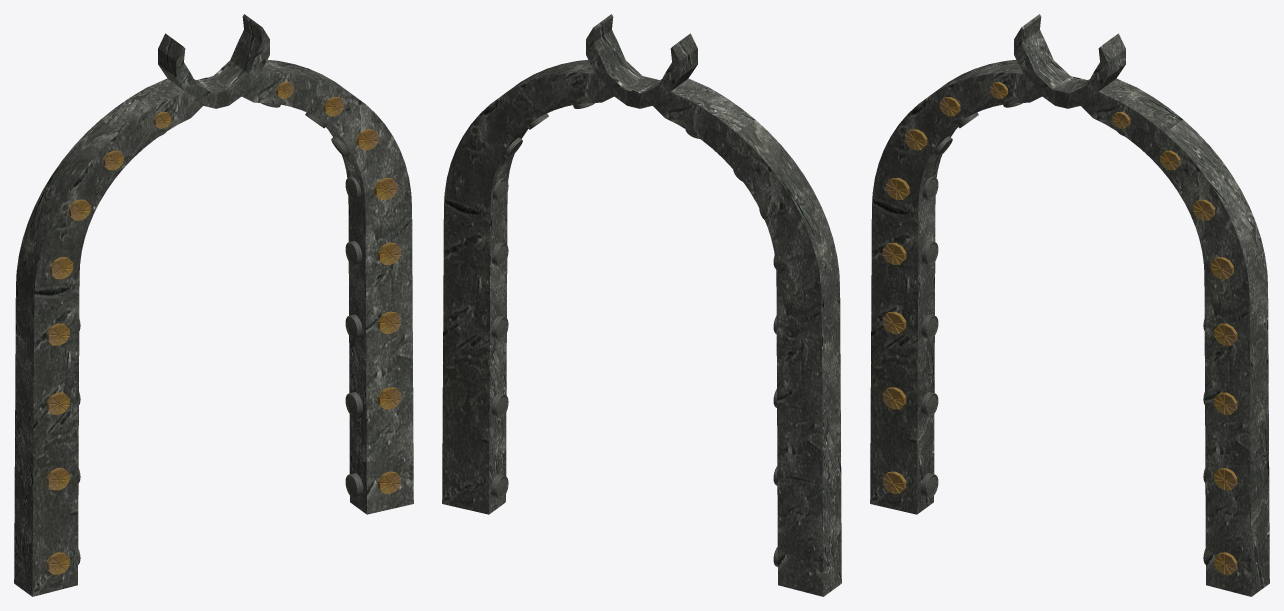
Rendered from magic_port.FBX.
3 renders of one model, left to right at view 1: azimuth 30°, elevation 25°; view 2: azimuth 150°, elevation 25°; view 3: azimuth 330°, elevation 25°, orthographic.
Visible parts, largest first — view 1: Cylinder001, spiker; view 2: Cylinder001; view 3: Cylinder001, spiker.
Part boxes in pixels (x1,y1,x2,y2): Cylinder001: [14, 14, 413, 596]; spiker: [46, 82, 401, 574]; Cylinder001: [442, 14, 841, 596]; Cylinder001: [870, 14, 1269, 596]; spiker: [882, 82, 1237, 574].
Bounding box in the file's own units: 47.02 × 60.49 × 4.31.
2 materials, 2 textured.
